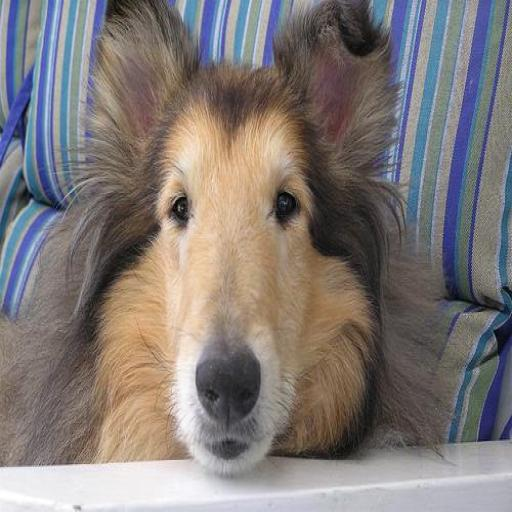dog_face: (95, 8, 403, 474)
